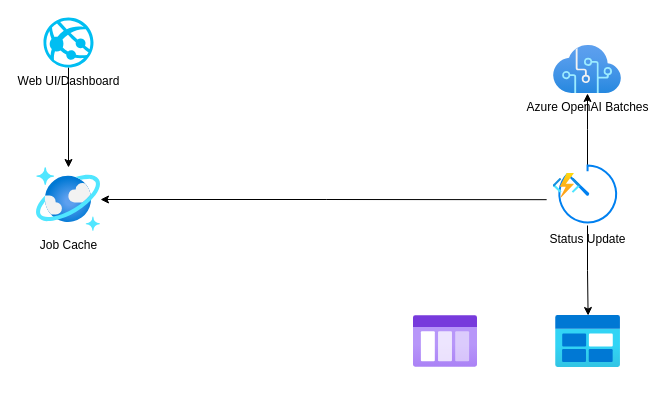
This 665x405 diagram has some shape labels left out. Here are the shapes that lost their labels. From the top down, the centre of each, then its label:
At point 445,341: "Message Queues".
At point 587,341: "Results Storage".
